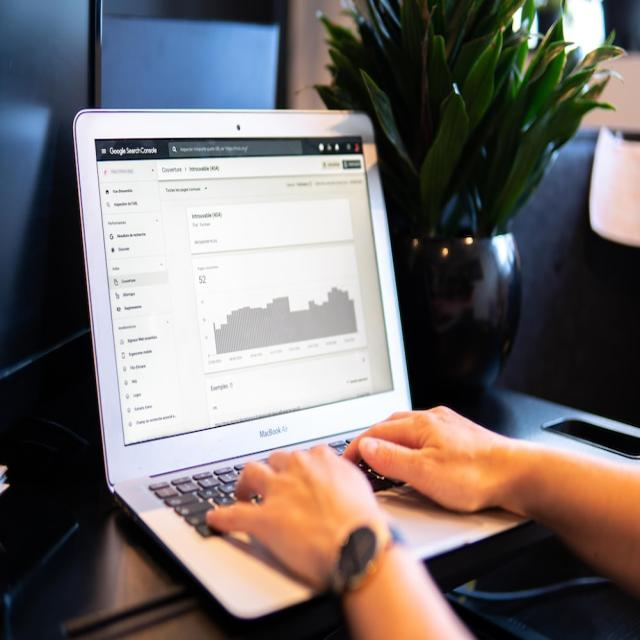keyboard-with-hands: (135, 418, 542, 604)
